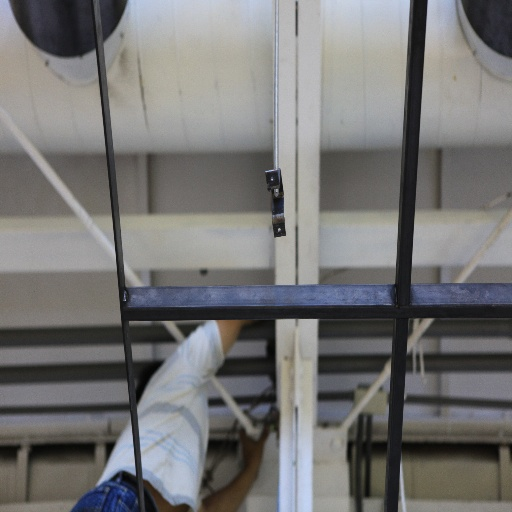hand: (238, 407, 272, 476)
